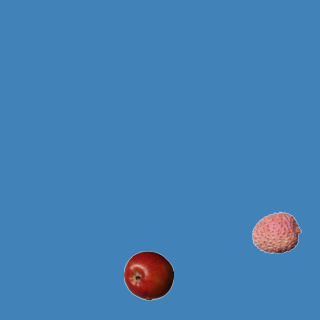Apple Braeburn: (123, 250, 173, 300)
Lychee: (251, 207, 301, 257)
